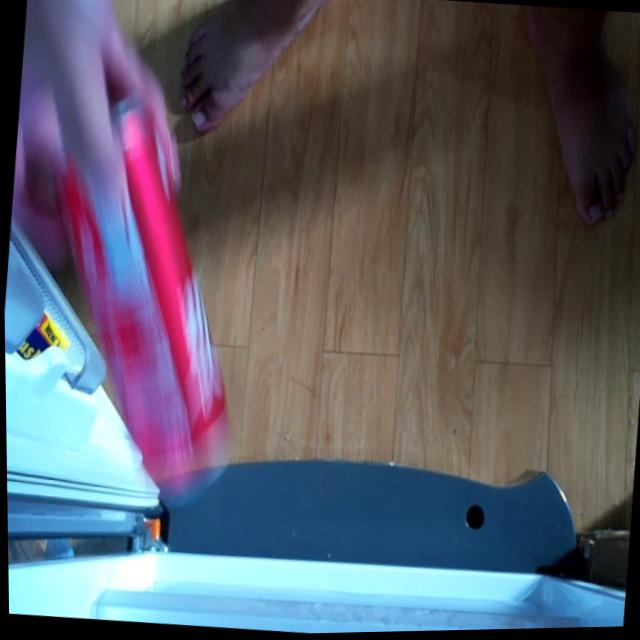coke: (25, 98, 265, 494)
